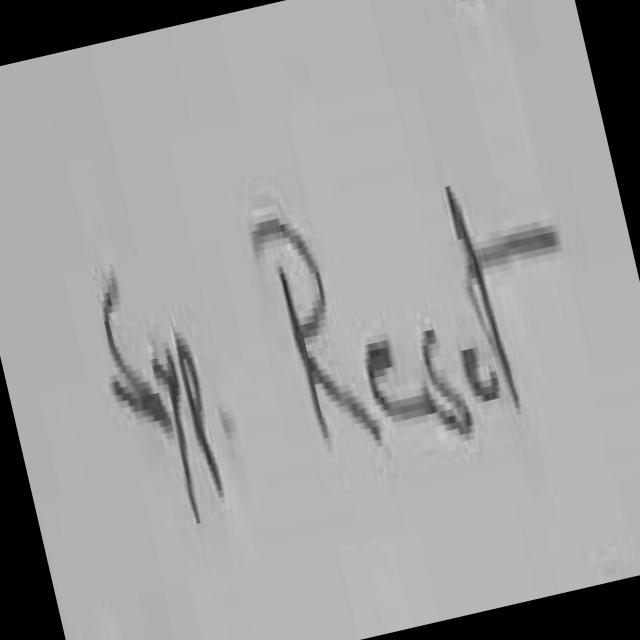R: (252, 212, 380, 437)
S: (103, 270, 172, 426)
e: (367, 339, 438, 416), (462, 347, 499, 395)
p: (175, 333, 222, 490)
s: (423, 322, 471, 428)
t: (446, 185, 559, 403)
y: (151, 348, 199, 519)
